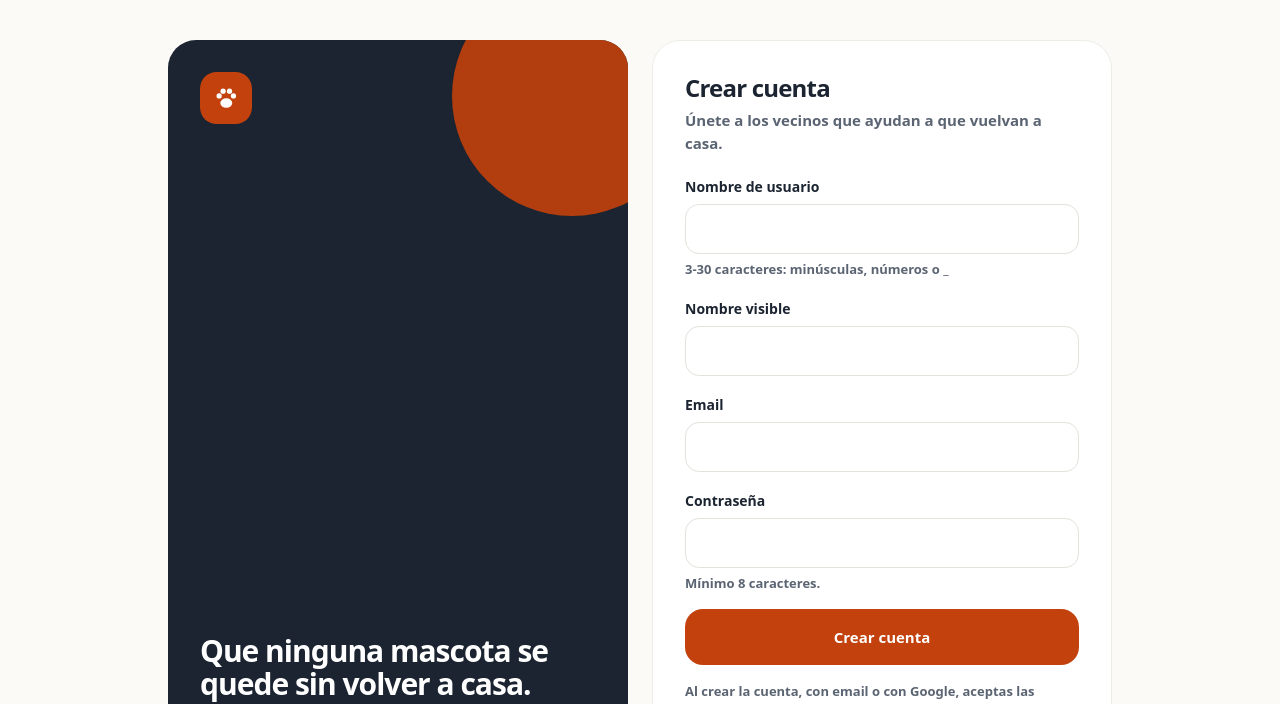
it: crear cuenta › corrige mayúsculas, tildes y espacios del nombre de usuario mientras se escribe
This screenshot has width=1280, height=704.
Type "José Peña" into the field labelled "Nombre de usuario". click: [882, 229]
box: [685, 204, 1079, 254]
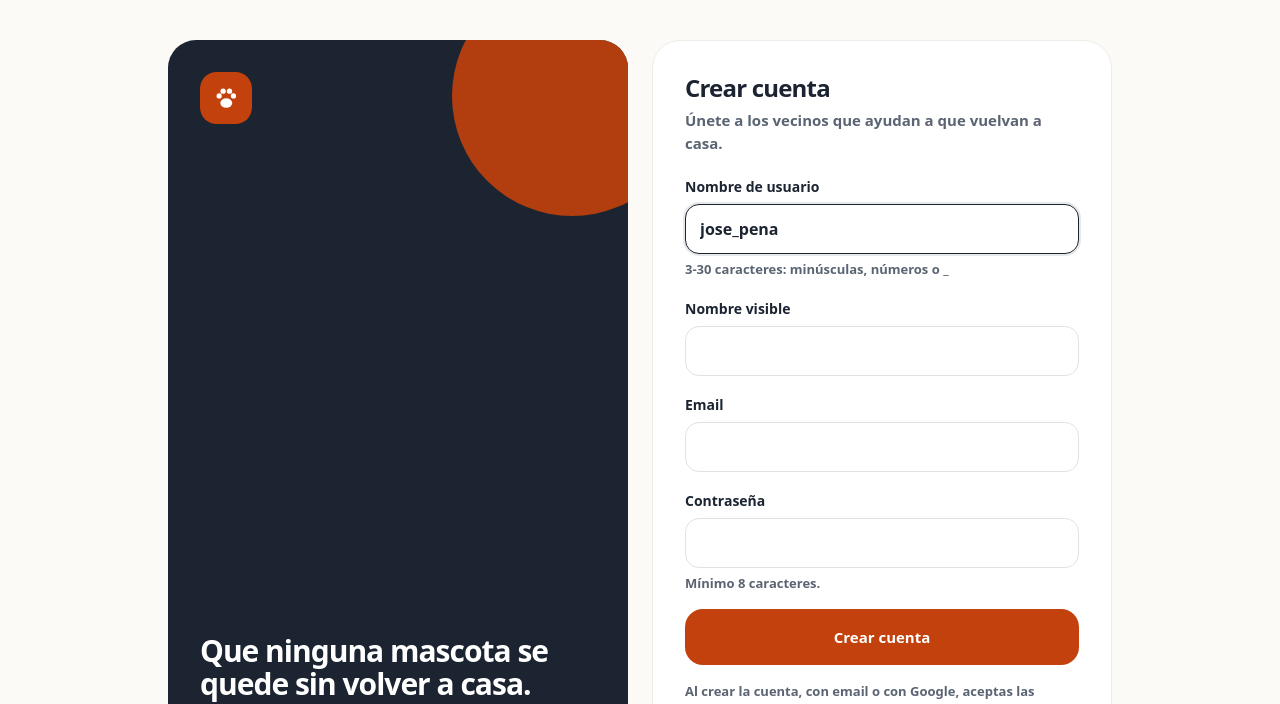
Result: the field labelled "Nombre de usuario" holds "jose_pena" at [685, 204, 1079, 254]
Type "Pau" into the field labelled "Nombre visible". click: [882, 350]
box: [685, 326, 1079, 376]
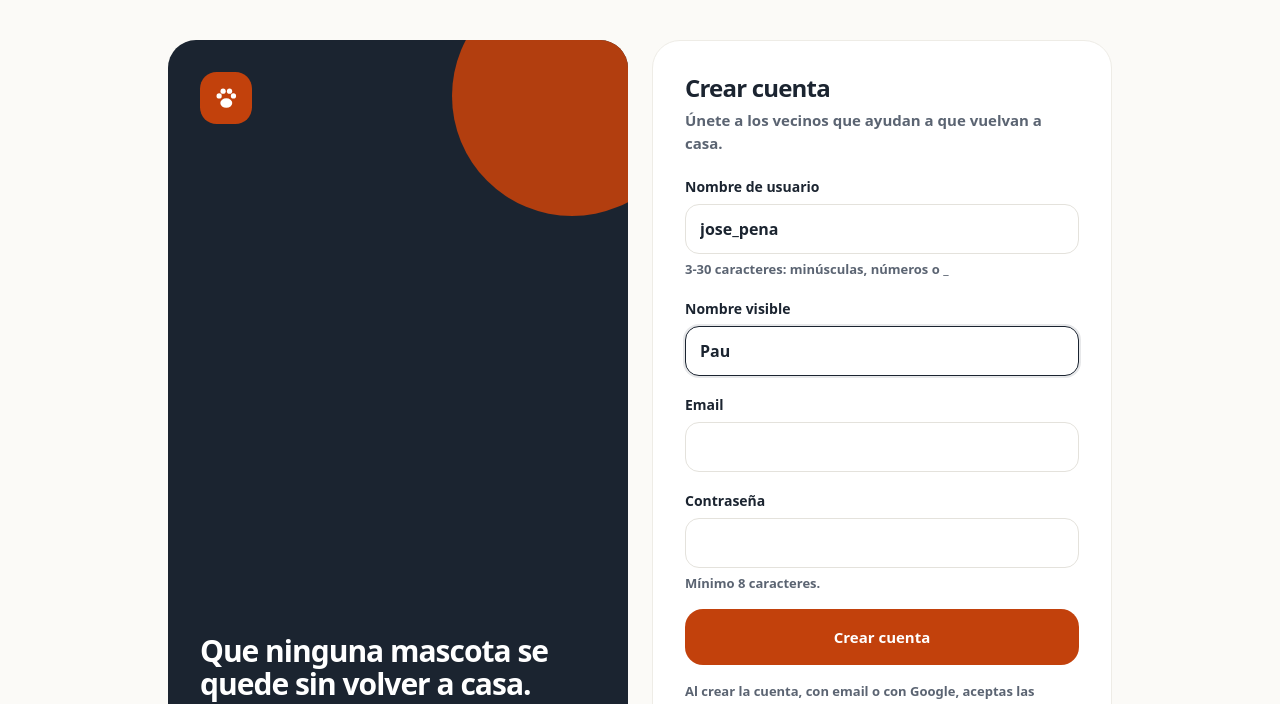
Type "pau@example.test" into the field labelled "Email". click: [882, 446]
box: [685, 422, 1079, 472]
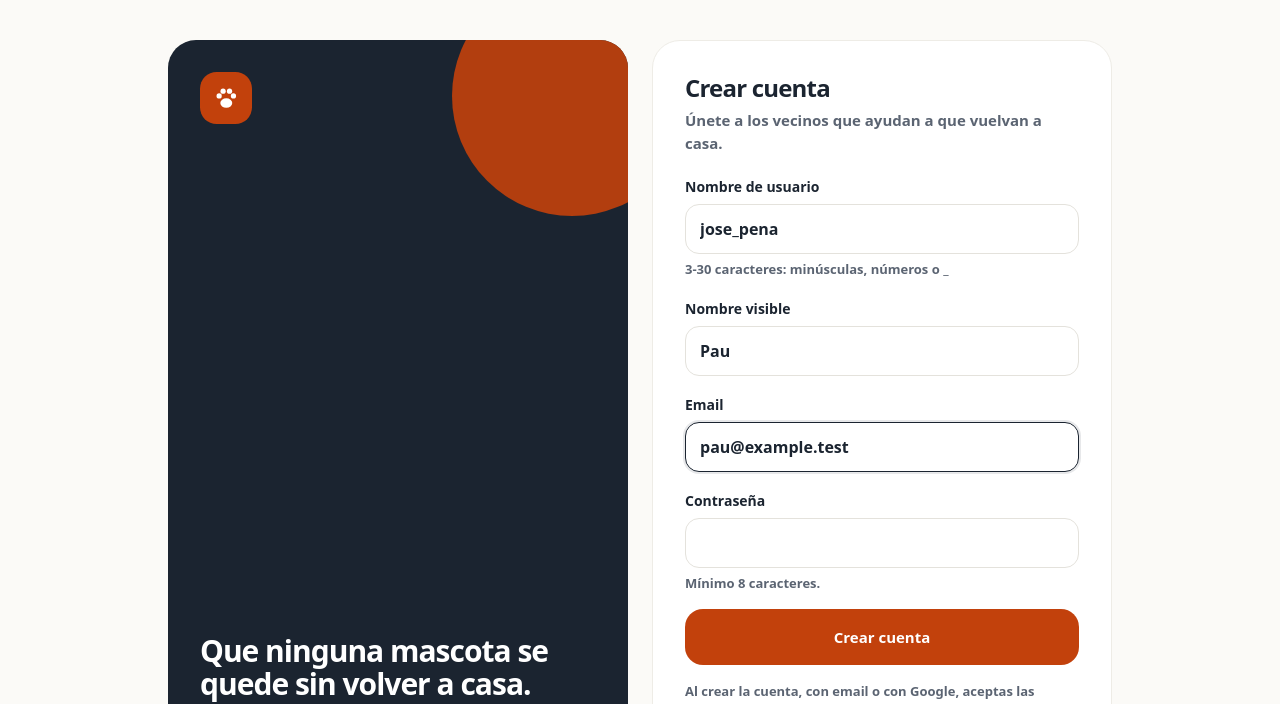
Type "contrasena123" into the password field labelled "Contraseña Mínimo 8 caracteres.". click: [882, 542]
box: [685, 518, 1079, 568]
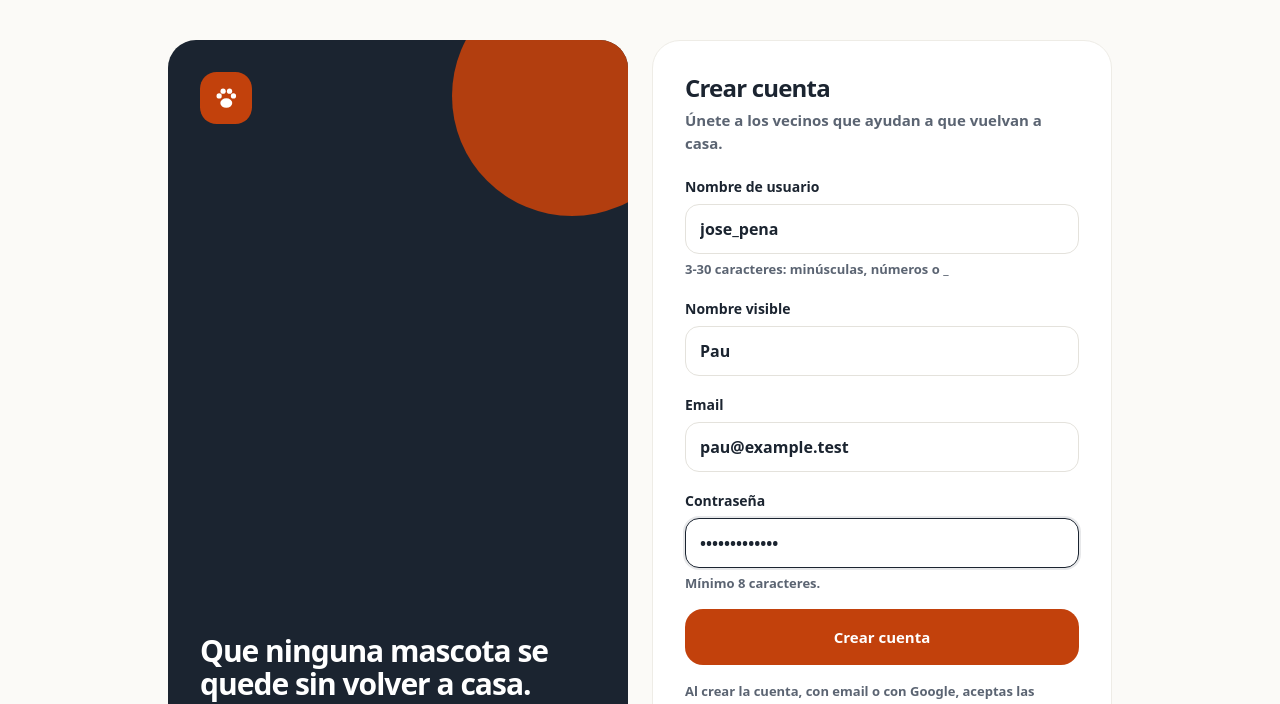
Click the button "Crear cuenta". click: [882, 637]
box: [685, 609, 1079, 665]
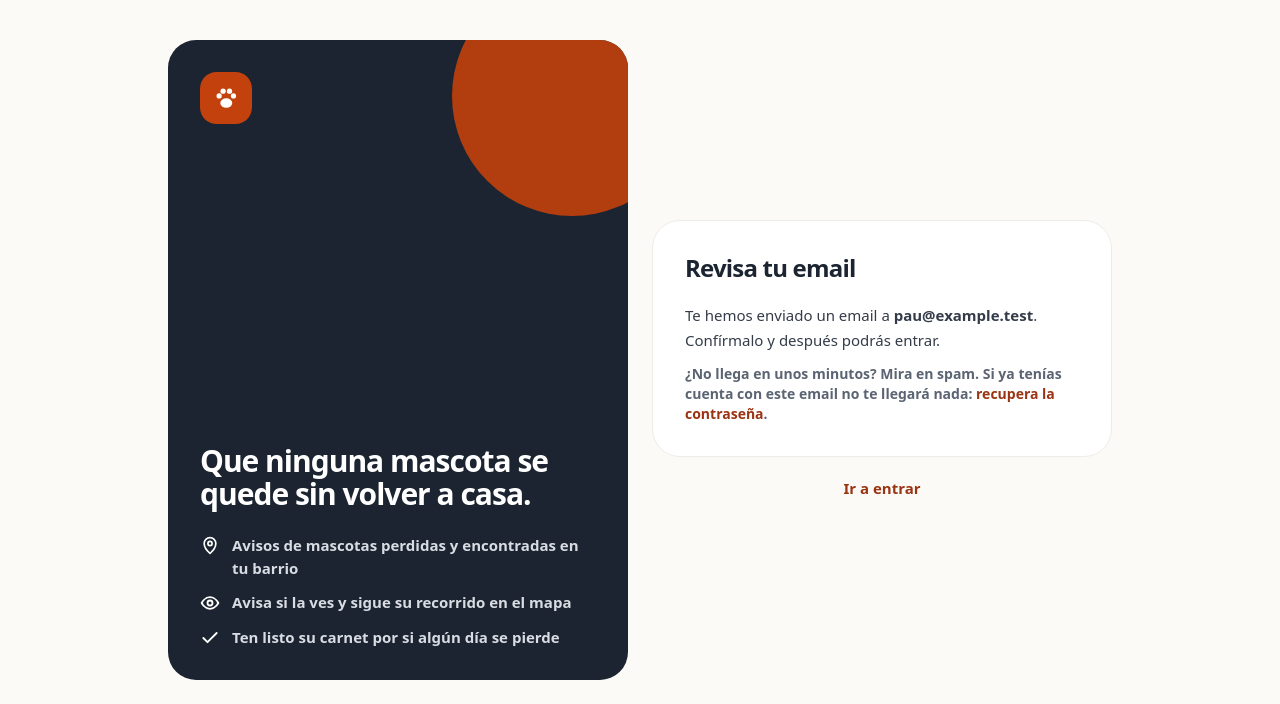
Result: the heading "Revisa tu email" is shown at [685, 251, 856, 284]
